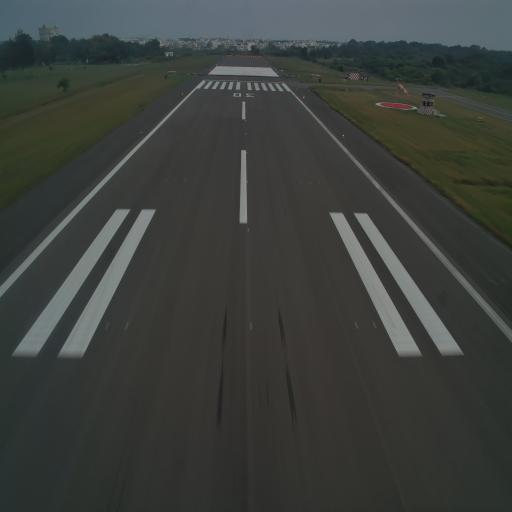off: (353, 317, 361, 335), (123, 318, 130, 334), (372, 317, 379, 331), (105, 319, 111, 334), (247, 320, 254, 332), (184, 176, 188, 184), (298, 180, 302, 188), (307, 179, 311, 186), (174, 178, 178, 184), (164, 177, 167, 184), (318, 180, 320, 186)
on: (246, 227, 250, 234), (246, 177, 248, 186), (245, 150, 248, 155)
